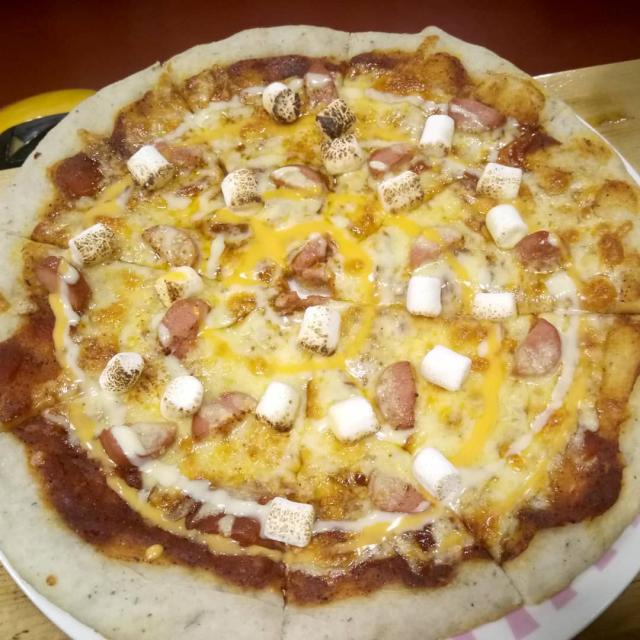pizza: (0, 27, 640, 640)
